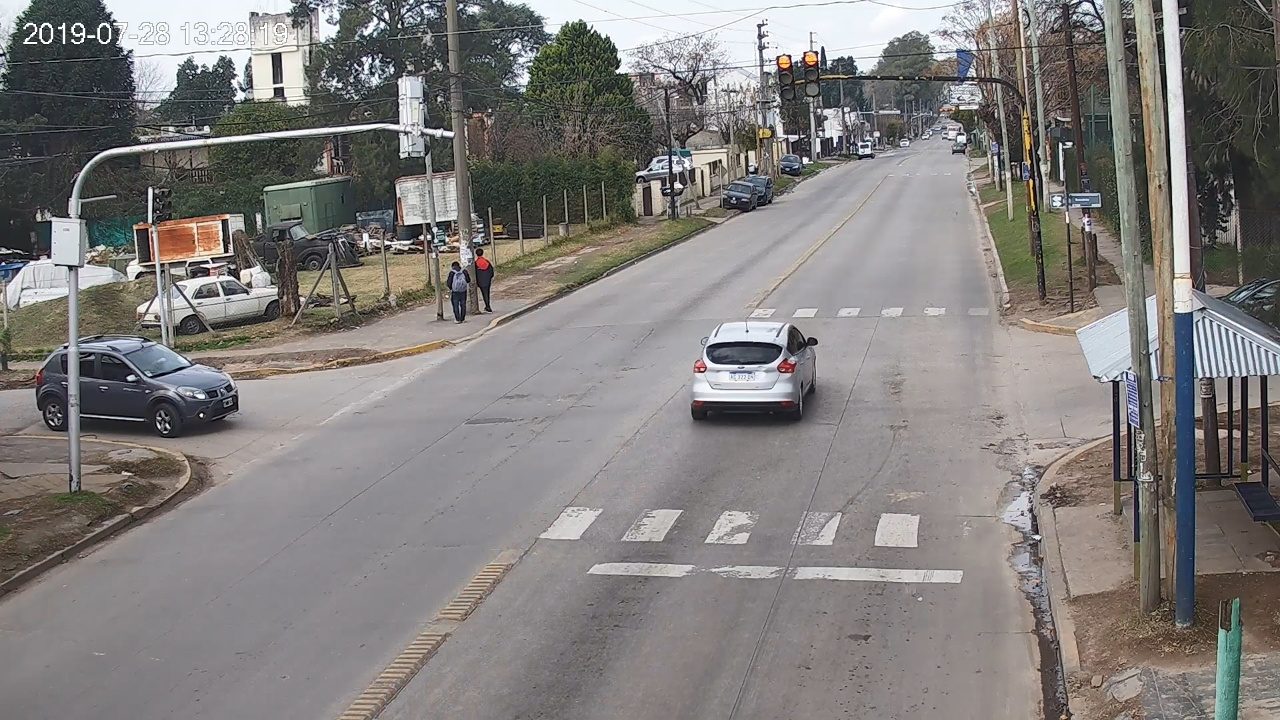car: (691, 322, 818, 419)
traffic light: (778, 54, 795, 99), (804, 51, 821, 96)
